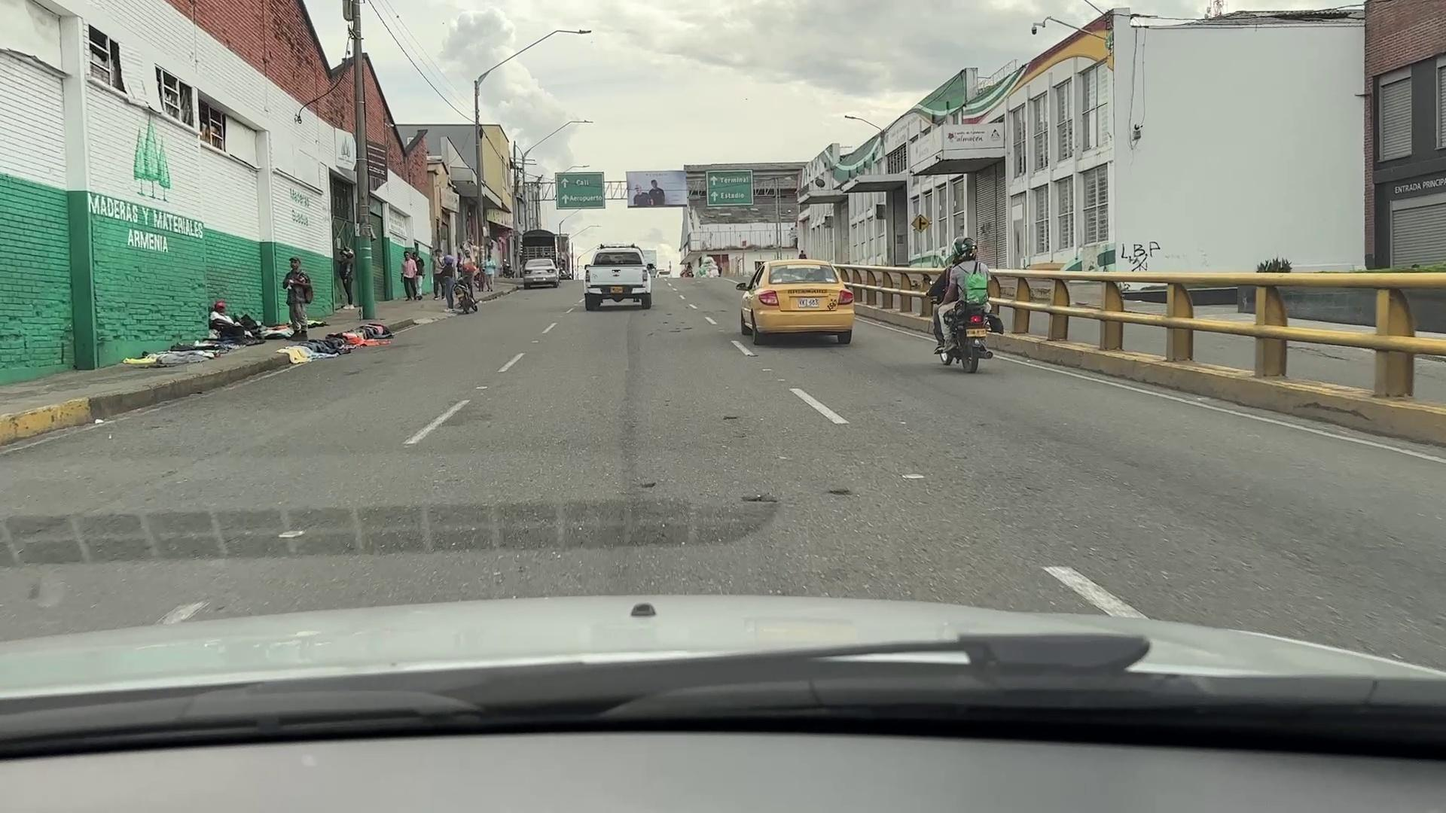bache: (743, 495, 777, 501), (828, 488, 851, 495), (640, 482, 656, 488), (724, 416, 739, 419)
